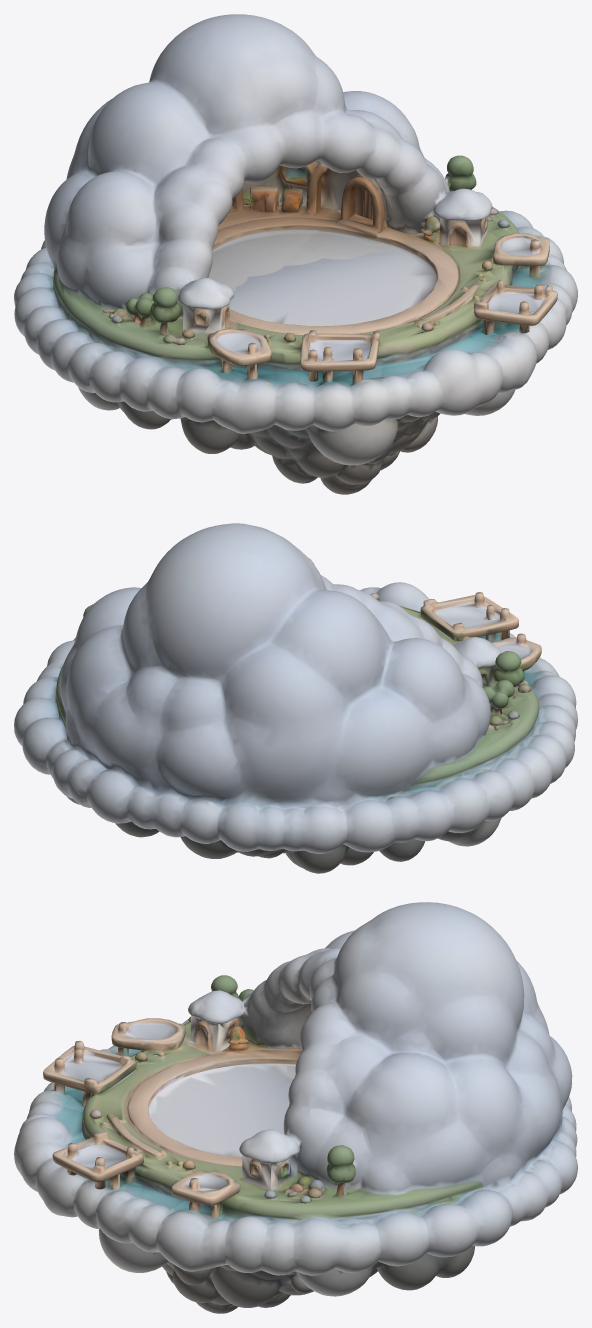
File: airship-dock-1.glb
3 views of the same model, one above another, from view 1: azimuth 30°, elevation 25°; view 2: azimuth 150°, elevation 25°; view 3: azimuth 270°, elevation 25° (orthographic).
Parts seen in each view (by area): view 1: node_0; view 2: node_0; view 3: node_0.
Part boxes in pixels (x1=…): node_0: x1=14, y1=14, x2=577, y2=494; node_0: x1=14, y1=523, x2=577, y2=873; node_0: x1=14, y1=902, x2=577, y2=1313.
Bounding box in the file's own units: 1.15 × 0.8924 × 1.15.
1 material, 1 textured.
